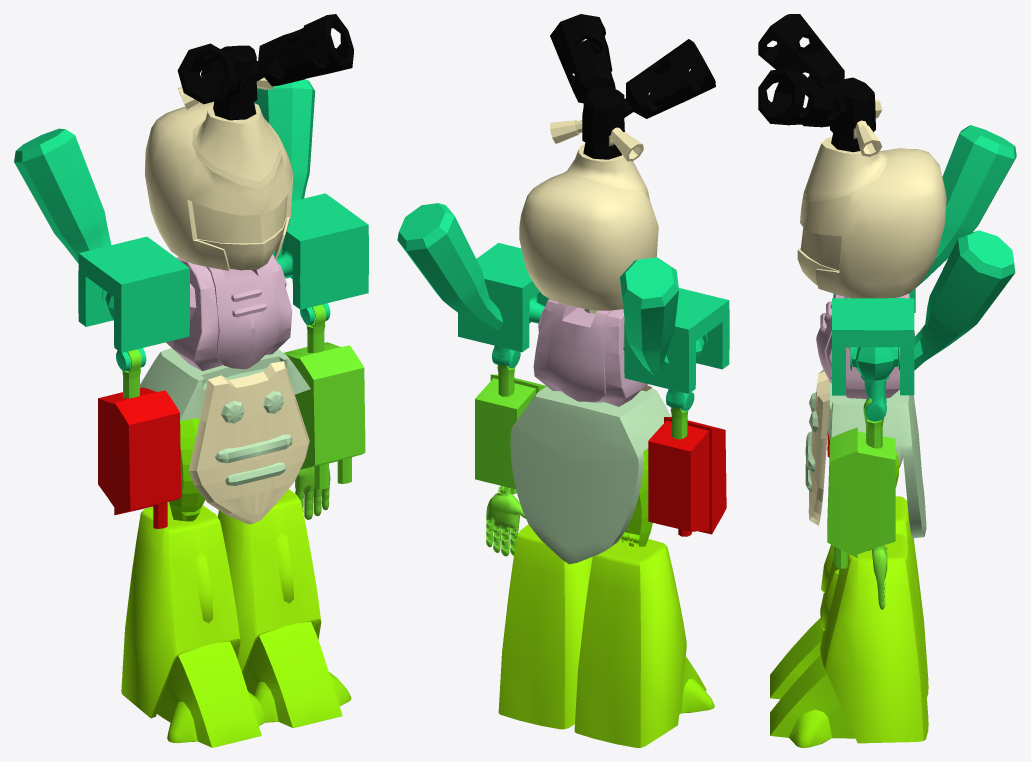
The model's file is metabe02.fbx.
3 views of the same model, side by side, from view 1: azimuth 30°, elevation 25°; view 2: azimuth 150°, elevation 25°; view 3: azimuth 270°, elevation 25° (orthographic). The views are drawn at different scales.
Parts seen in each view (by area): view 1: Head, M_Braco_E_LowPoly001, M_AntePerna_D_Low_Poly, M_Escudo_Saia_LowPoly, M_Braco_E_LowPoly005, M_AntePerna_E_Low_Poly, M_Chest_LowPoly, M_AnteBraco_D_Low_Poly, Pe_Metabee_LowPoly_D, M_AnteBraco_E_Low_Poly, Pe_Metabee_LowPoly_E, Saia_Traz_LowPoly (+4 smaller); view 2: Head, Saia_Traz_LowPoly, M_AntePerna_D_Low_Poly, M_AntePerna_E_Low_Poly, M_Braco_E_LowPoly005, M_Braco_E_LowPoly001, M_Chest_LowPoly, M_AnteBraco_D_Low_Poly, M_AnteBraco_E_Low_Poly, M_Perna_D_Low, Pe_Metabee_LowPoly_D, Mao_E (+2 smaller); view 3: Head, M_AntePerna_E_Low_Poly, M_Braco_E_LowPoly005, M_AnteBraco_E_Low_Poly, M_Braco_E_LowPoly001, Saia_Traz_LowPoly, Pe_Metabee_LowPoly_E, M_Escudo_Saia_LowPoly, Arm_E, M_Chest_LowPoly, Pe_Metabee_LowPoly_D, M_AntePerna_D_Low_Poly (+2 smaller).
Boxes of the visible parts, bbox=[...] form: Head: bbox=[145, 14, 353, 270]; M_Braco_E_LowPoly001: bbox=[14, 128, 189, 352]; M_AntePerna_D_Low_Poly: bbox=[121, 502, 240, 718]; M_Escudo_Saia_LowPoly: bbox=[189, 361, 309, 524]; M_Braco_E_LowPoly005: bbox=[254, 79, 368, 309]; M_AntePerna_E_Low_Poly: bbox=[218, 489, 321, 676]; M_Chest_LowPoly: bbox=[166, 254, 292, 370]; M_AnteBraco_D_Low_Poly: bbox=[98, 387, 180, 528]; Pe_Metabee_LowPoly_D: bbox=[157, 641, 264, 747]; M_AnteBraco_E_Low_Poly: bbox=[284, 342, 365, 489]; Pe_Metabee_LowPoly_E: bbox=[243, 621, 351, 728]; Saia_Traz_LowPoly: bbox=[140, 348, 310, 420]; Head: bbox=[519, 14, 715, 310]; Saia_Traz_LowPoly: bbox=[510, 386, 671, 564]; M_AntePerna_D_Low_Poly: bbox=[574, 534, 686, 747]; M_AntePerna_E_Low_Poly: bbox=[498, 524, 592, 729]; M_Braco_E_LowPoly005: bbox=[397, 203, 548, 352]; M_Braco_E_LowPoly001: bbox=[620, 257, 729, 393]; M_Chest_LowPoly: bbox=[533, 299, 647, 406]; M_AnteBraco_D_Low_Poly: bbox=[648, 417, 726, 536]; M_AnteBraco_E_Low_Poly: bbox=[475, 374, 546, 494]; M_Perna_D_Low: bbox=[621, 449, 652, 546]; Pe_Metabee_LowPoly_D: bbox=[679, 656, 714, 714]; Mao_E: bbox=[486, 486, 522, 529]; Head: bbox=[758, 14, 946, 298]; M_AntePerna_E_Low_Poly: bbox=[820, 534, 928, 743]; M_Braco_E_LowPoly005: bbox=[832, 230, 1015, 395]; M_AnteBraco_E_Low_Poly: bbox=[827, 427, 895, 568]; M_Braco_E_LowPoly001: bbox=[833, 125, 1016, 312]; Saia_Traz_LowPoly: bbox=[828, 382, 926, 538]; Pe_Metabee_LowPoly_E: bbox=[770, 655, 855, 747]; M_Escudo_Saia_LowPoly: bbox=[805, 369, 829, 525]; Arm_E: bbox=[850, 347, 899, 421]; M_Chest_LowPoly: bbox=[816, 293, 914, 398]; Pe_Metabee_LowPoly_D: bbox=[770, 617, 823, 699]; M_AntePerna_D_Low_Poly: bbox=[820, 496, 928, 696].
Bounding box in the file's own units: 187 × 425 × 150.
